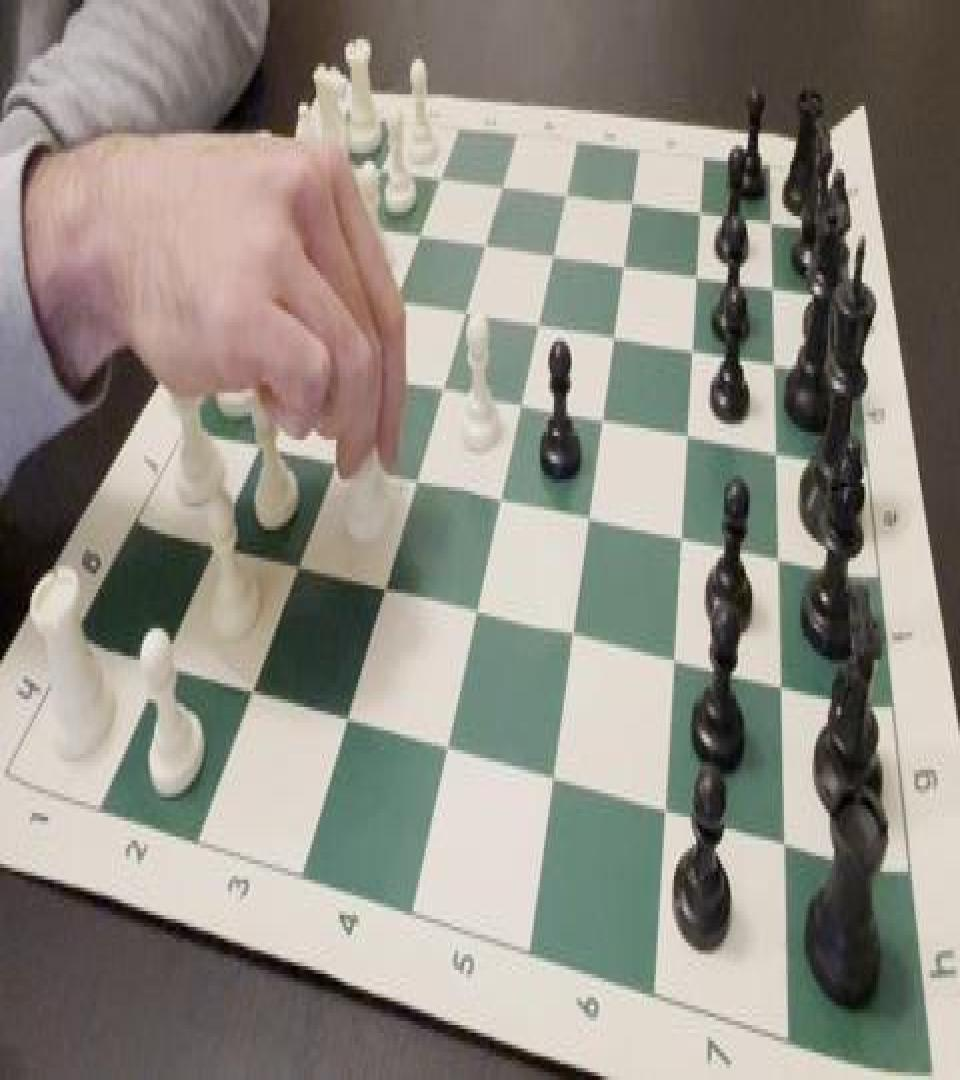xcorner: (758, 188, 782, 236), (688, 180, 712, 228), (408, 202, 432, 250), (602, 302, 626, 350), (527, 290, 551, 338), (764, 418, 788, 466), (676, 400, 700, 448), (766, 522, 790, 570), (663, 624, 687, 672), (204, 512, 228, 560), (543, 740, 567, 788), (152, 630, 176, 678), (620, 171, 644, 218), (554, 163, 578, 210), (491, 153, 515, 200), (612, 232, 636, 279), (541, 222, 565, 269), (474, 212, 498, 259), (345, 193, 369, 240), (762, 330, 786, 377), (680, 316, 704, 363), (454, 279, 478, 326), (385, 267, 409, 314), (591, 385, 615, 432), (510, 369, 534, 416), (285, 328, 309, 375), (670, 503, 694, 550), (578, 483, 602, 530), (406, 446, 430, 493), (325, 428, 349, 475), (248, 413, 272, 460), (769, 650, 793, 697), (562, 599, 586, 646), (375, 554, 399, 601), (287, 532, 311, 579), (773, 805, 797, 852), (655, 772, 679, 819), (437, 711, 461, 758), (242, 656, 266, 703), (429, 146, 453, 192), (369, 138, 393, 184), (760, 256, 784, 302), (684, 244, 708, 290), (317, 256, 341, 302), (432, 356, 456, 402), (357, 342, 381, 388), (490, 464, 514, 510), (466, 576, 490, 622), (337, 684, 361, 730)
